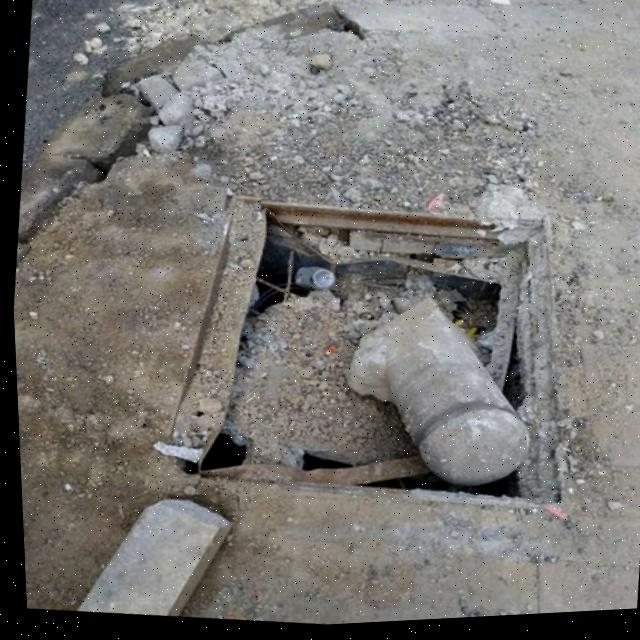manhole: (151, 169, 603, 543)
